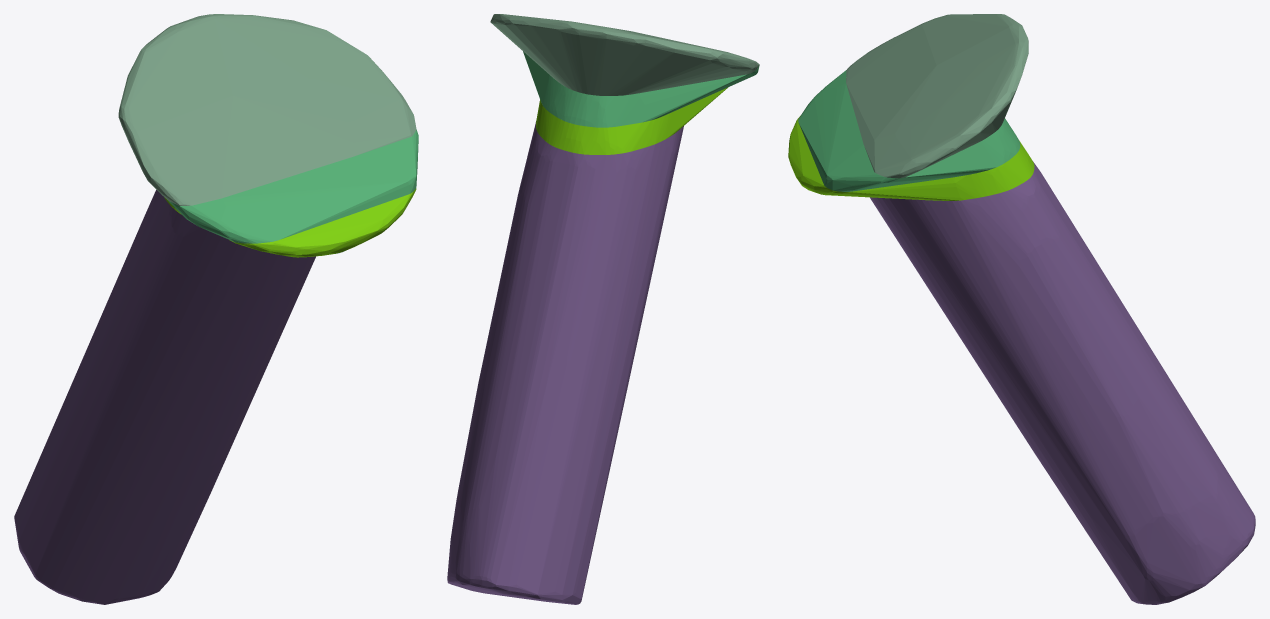
File: 1_decomposed.obj
The picture shows the model from 3 angles, left to right: view 1: azimuth 30°, elevation 25°; view 2: azimuth 150°, elevation 25°; view 3: azimuth 270°, elevation 25°; orthographic projection. The views are drawn at different scales.
Visible parts, largest first — view 1: geometry_1, geometry_0, geometry_3, geometry_4; view 2: geometry_1, geometry_0, geometry_3, geometry_4; view 3: geometry_1, geometry_0, geometry_3, geometry_4.
Boxes of the visible parts, <box> form: geometry_1: <box>14,190,315,604</box>; geometry_0: <box>118,14,416,205</box>; geometry_3: <box>168,129,418,243</box>; geometry_4: <box>164,188,416,257</box>; geometry_1: <box>447,121,683,604</box>; geometry_0: <box>490,14,759,95</box>; geometry_3: <box>523,51,759,127</box>; geometry_4: <box>536,87,727,154</box>; geometry_1: <box>870,161,1255,604</box>; geometry_0: <box>846,14,1028,178</box>; geometry_3: <box>798,70,1020,191</box>; geometry_4: <box>788,115,1034,200</box>.
Size of the model in its own units: 0.081 by 0.1765 by 0.1343.
